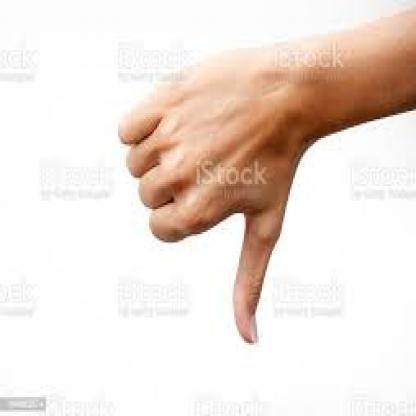thumb_down: (115, 43, 300, 350)
